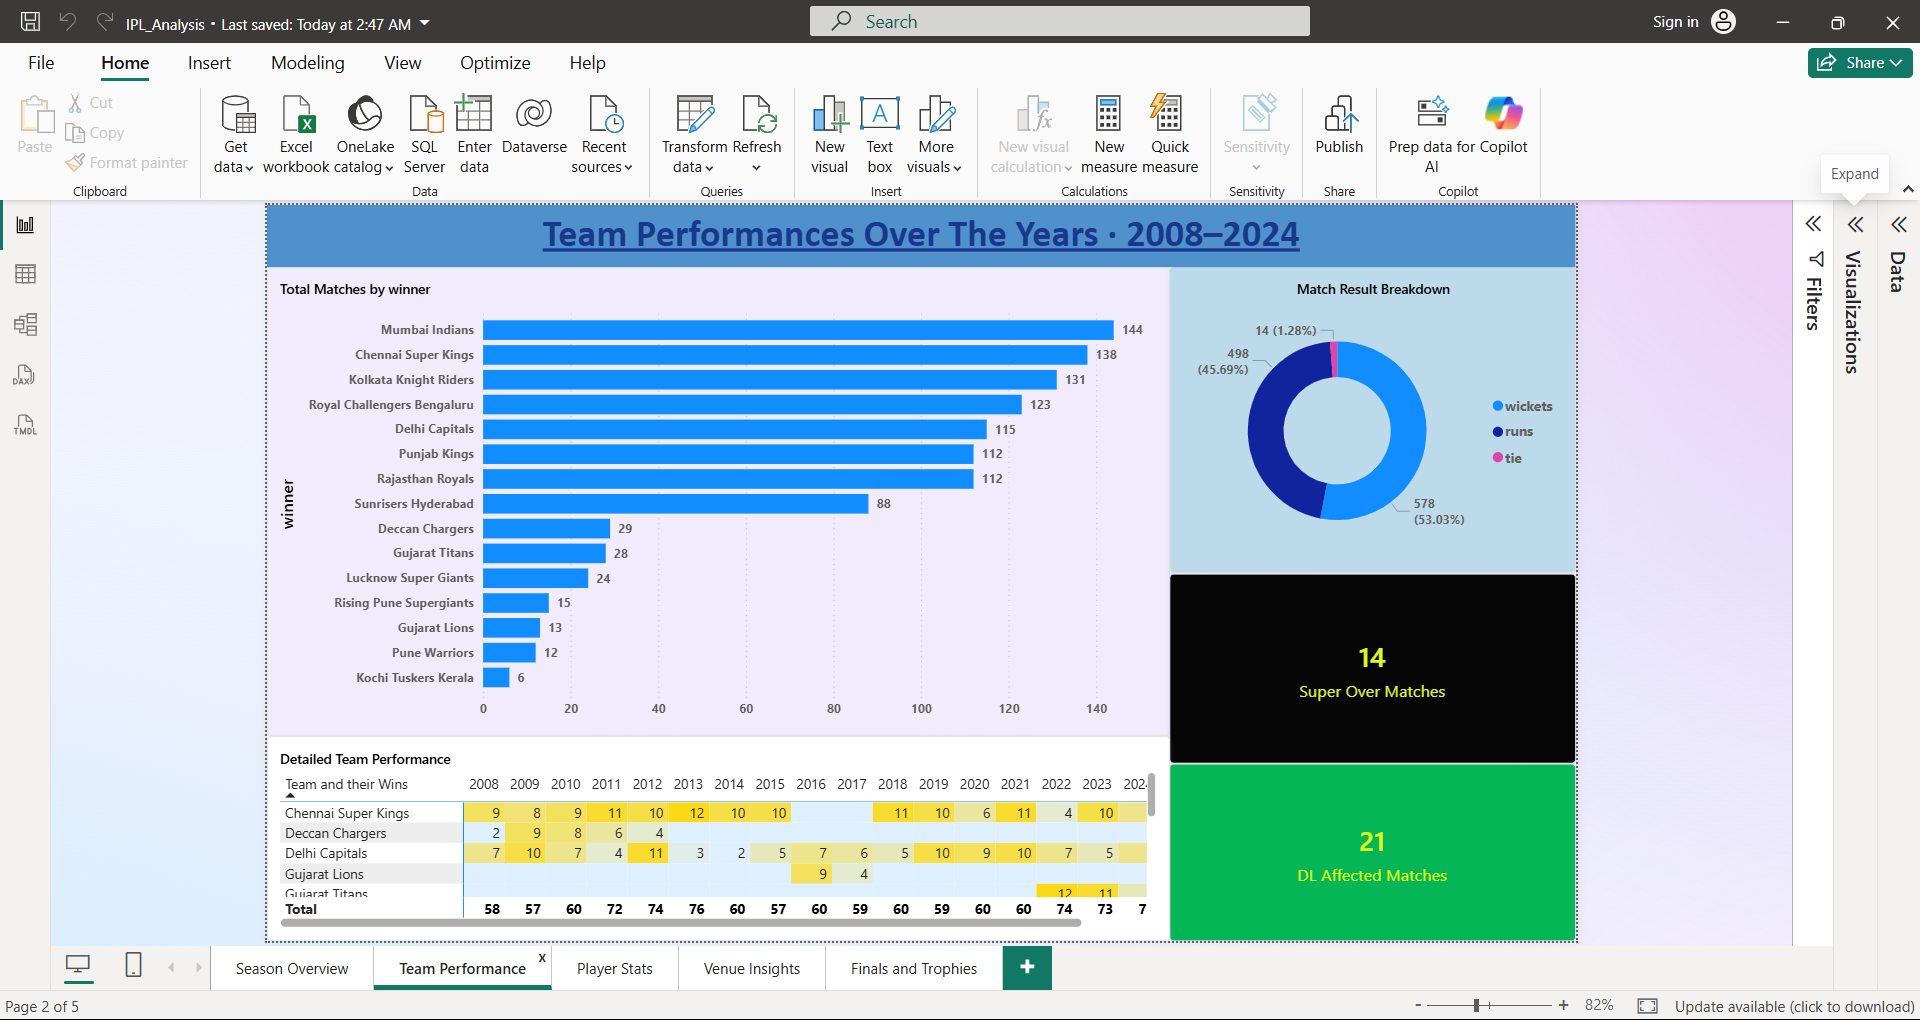

The dashboard page shown, as its layout file describes it:
{"tool":"powerbi","page":{"name":"Team Performance","canvas":[1280,720],"ordinal":1},"visuals":[{"type":"barChart","fields":{"Category":["dim_matches.winner"],"Y":["Measure.Total Matches"]},"box":[0,60.5,882.9,459.2],"z":0},{"type":"donutChart","title":"Match Result Breakdown","fields":{"Category":["dim_matches.result"],"Y":["CountNonNull(dim_matches.match_id)"]},"box":[882.9,60.5,397.4,300],"z":1000},{"type":"card","fields":{"Values":["Measure.Super Over Matches"]},"box":[882.9,360.5,397.4,185.5],"z":2000},{"type":"card","fields":{"Values":["Measure.DL Affected Matches"]},"box":[882.9,546.1,397.4,173.7],"z":3000},{"type":"pivotTable","title":"Detailed Team Performance","fields":{"Rows":["dim_matches.winner"],"Columns":["dim_matches.season"],"Values":["CountNonNull(dim_matches.match_id)"]},"box":[0,519.7,882.9,200],"z":4000},{"type":"textbox","box":[0,0,1280.3,60.5],"z":5000}]}

Visuals, with their boxes on the page's 1280x720 design canvas (x1, y1, x2, y2). These are canvas units, not pixel positions in the 1920x1020 screenshot, which may show the page scaled, cropped or inside an application window:
barChart - dim_matches.winner x Measure.Total Matches: {"x1": 0, "y1": 60, "x2": 883, "y2": 520}
"Match Result Breakdown" donutChart: {"x1": 883, "y1": 60, "x2": 1280, "y2": 360}
card - Measure.Super Over Matches: {"x1": 883, "y1": 360, "x2": 1280, "y2": 546}
card - Measure.DL Affected Matches: {"x1": 883, "y1": 546, "x2": 1280, "y2": 720}
"Detailed Team Performance" pivotTable: {"x1": 0, "y1": 520, "x2": 883, "y2": 720}
textbox: {"x1": 0, "y1": 0, "x2": 1280, "y2": 60}
